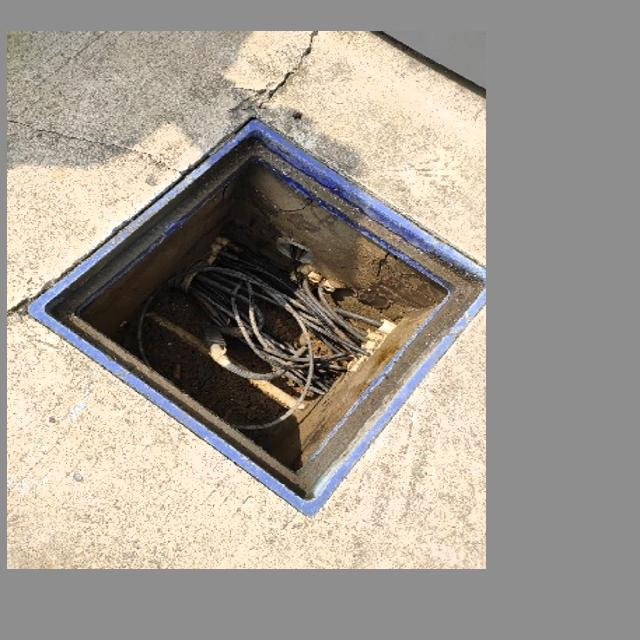lose: (25, 118, 486, 517)
